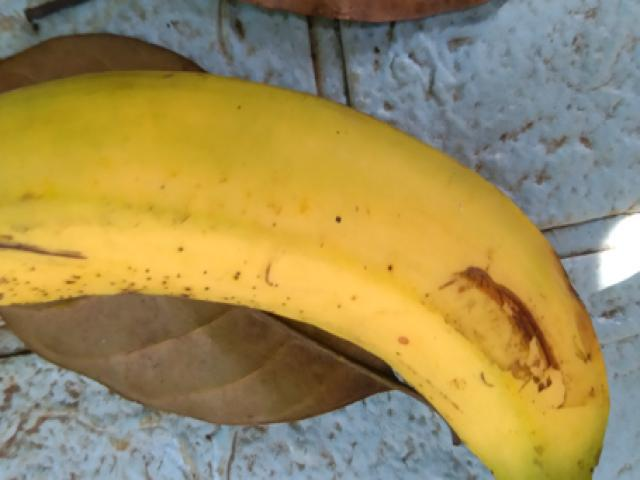ripe: (5, 59, 622, 479)
